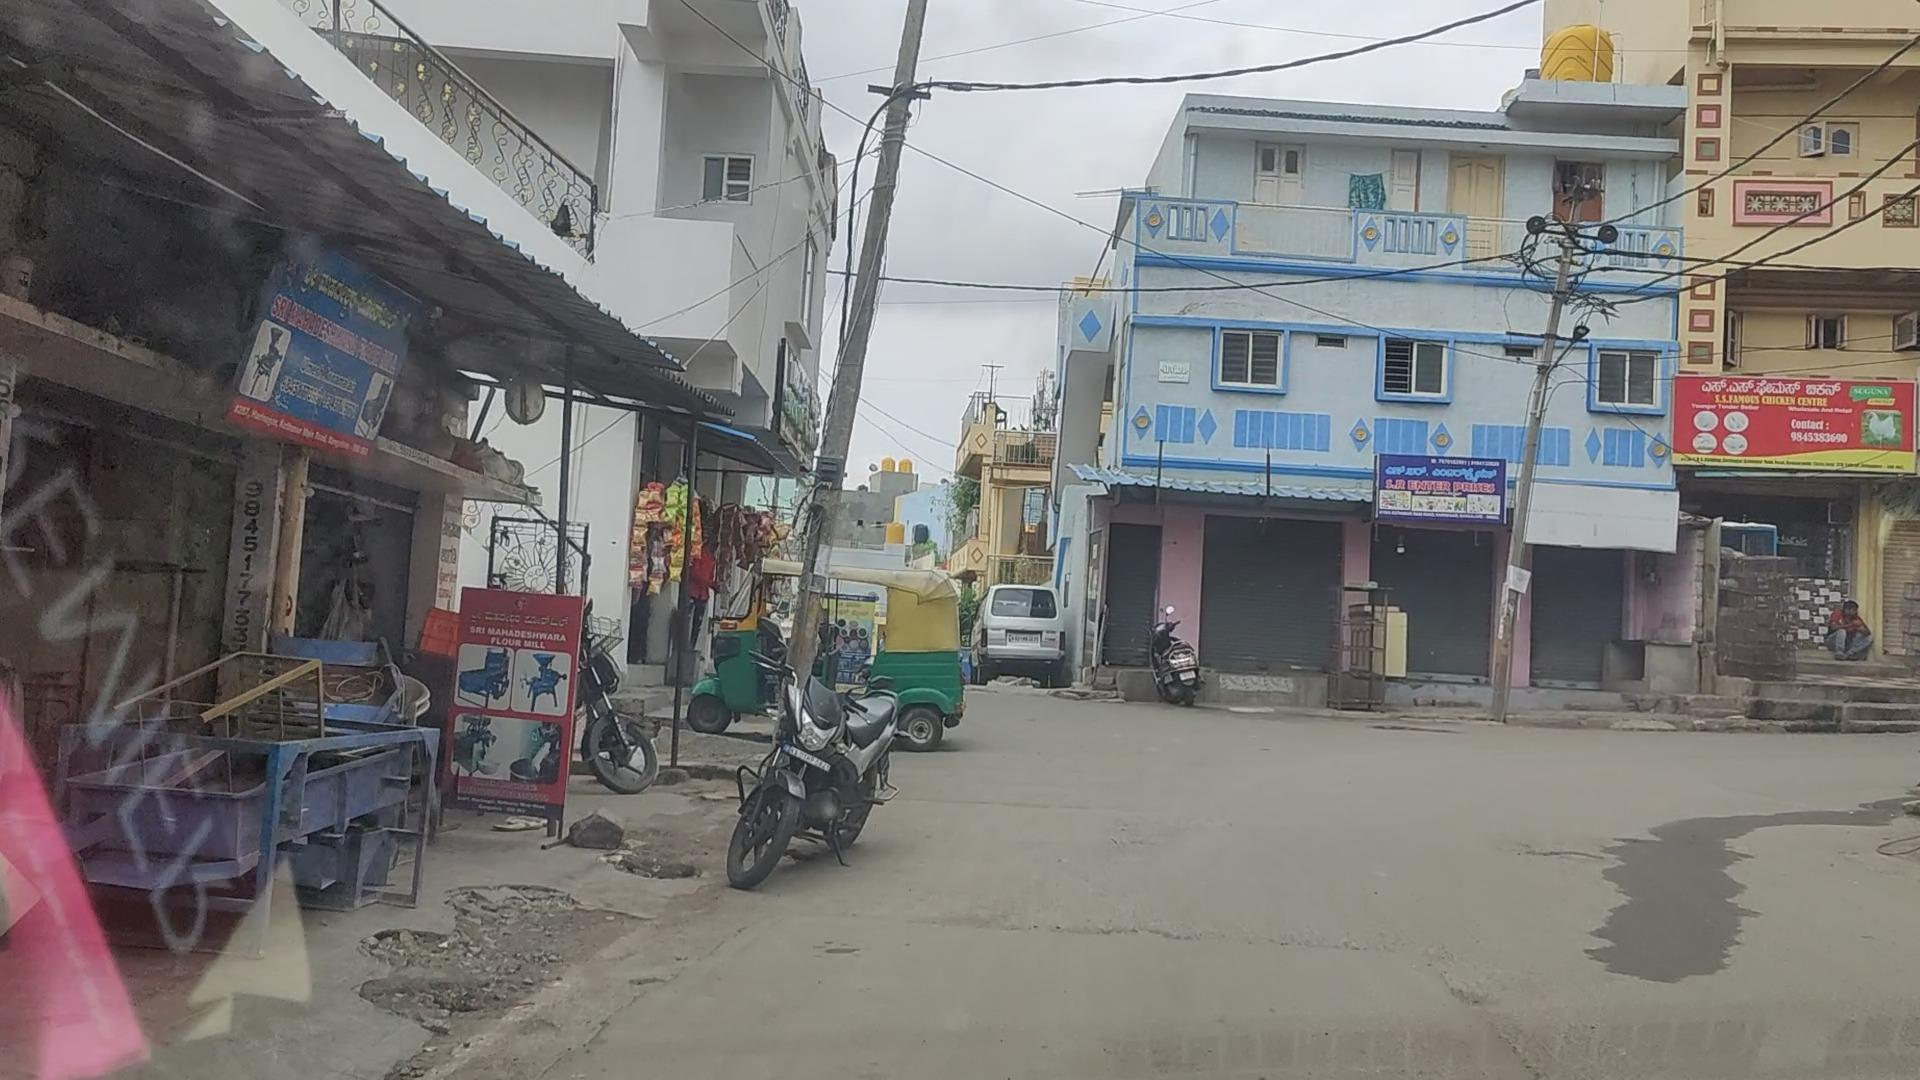RoadDamages: (878, 891, 1299, 965), (1424, 935, 1545, 1080)
